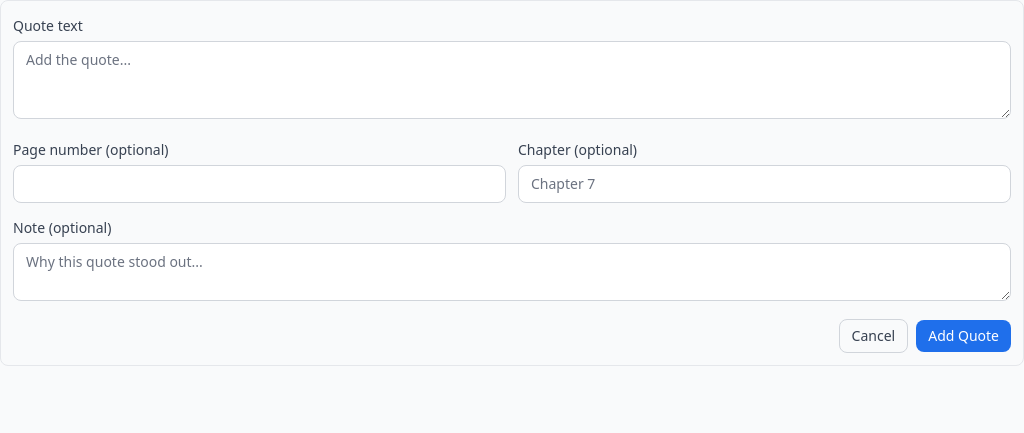
Scenario: QuoteForm › validates page number as positive integer
Step 1. Type "The sky above the port was the color of television." into the text box labelled "Quote text" → (512, 80), box x1=13 y1=41 x2=1011 y2=119
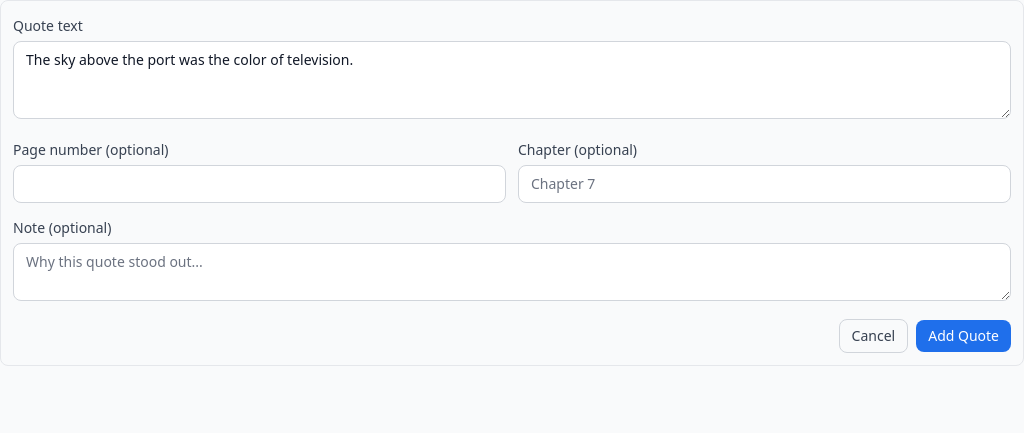
Step 2. Type "0" into the number field labelled "Page number (optional)" → (260, 184), box x1=13 y1=165 x2=506 y2=203
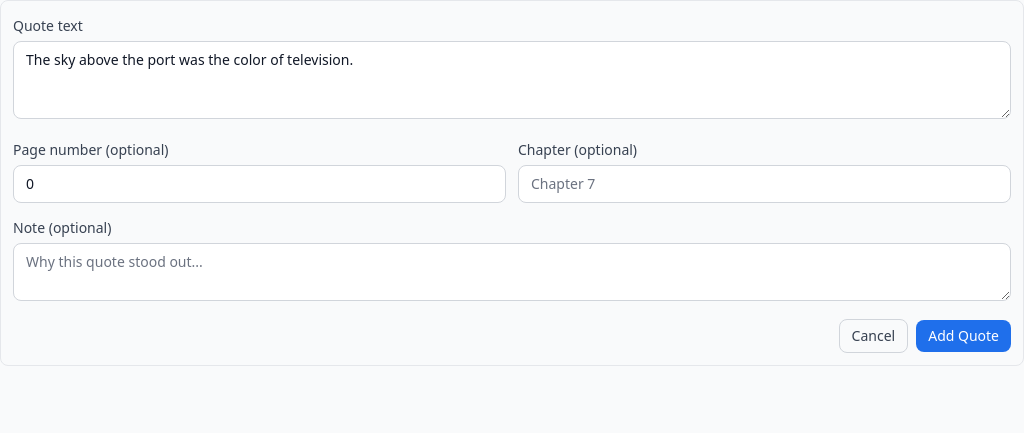
Step 3. Submit the form with test id "quote-form-text"
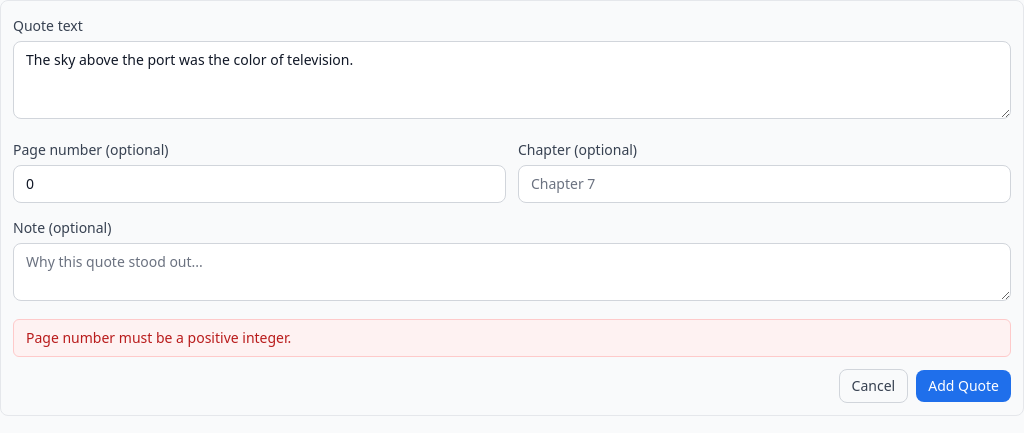
Expected: the text "Page number must be a positive integer." is shown, x1=13 y1=319 x2=1011 y2=357
